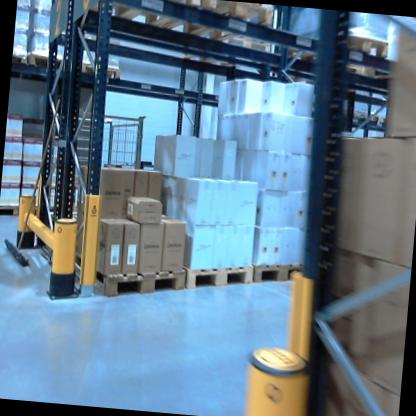pallet: (59, 247, 190, 304), (286, 21, 400, 78), (153, 0, 278, 47), (82, 0, 202, 33), (175, 256, 256, 295), (252, 258, 313, 292), (27, 48, 81, 80), (80, 61, 123, 82), (339, 110, 370, 124), (12, 46, 30, 66), (367, 110, 384, 131), (0, 206, 21, 220)
